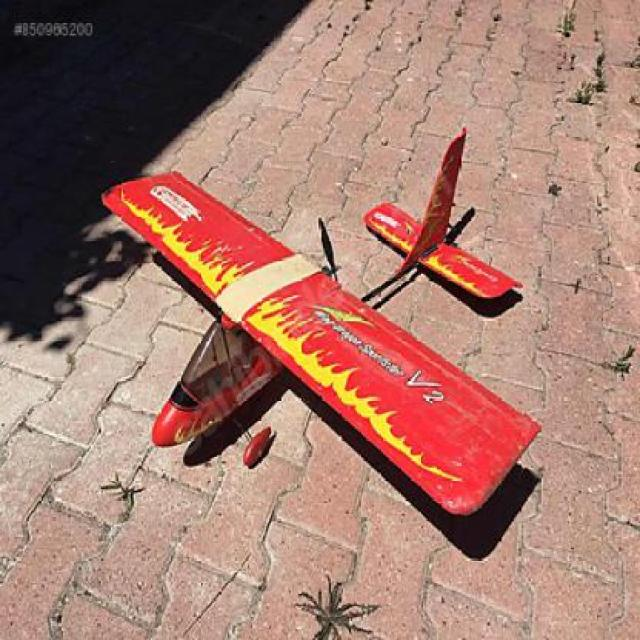iha: (98, 118, 552, 522)
